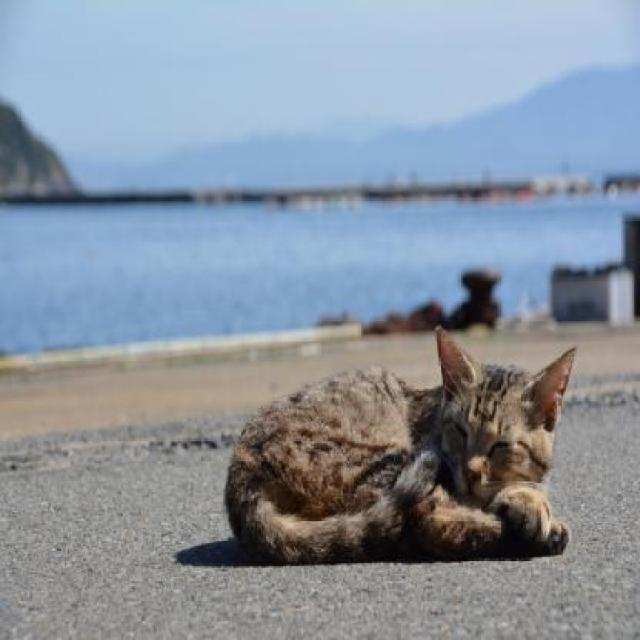cat: (225, 323, 580, 562)
